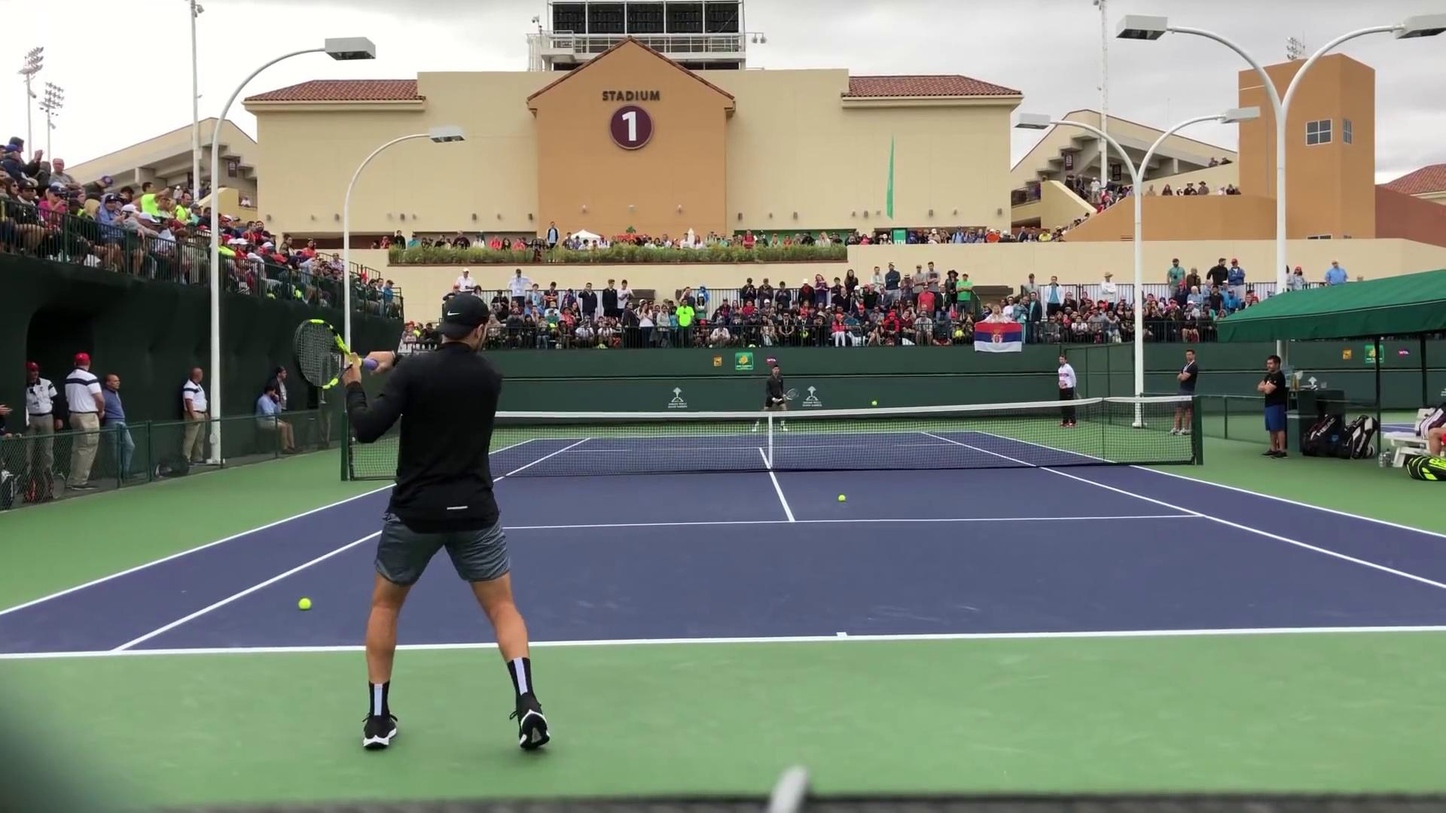ball: (297, 595, 312, 611), (839, 493, 850, 503), (870, 399, 878, 406)
